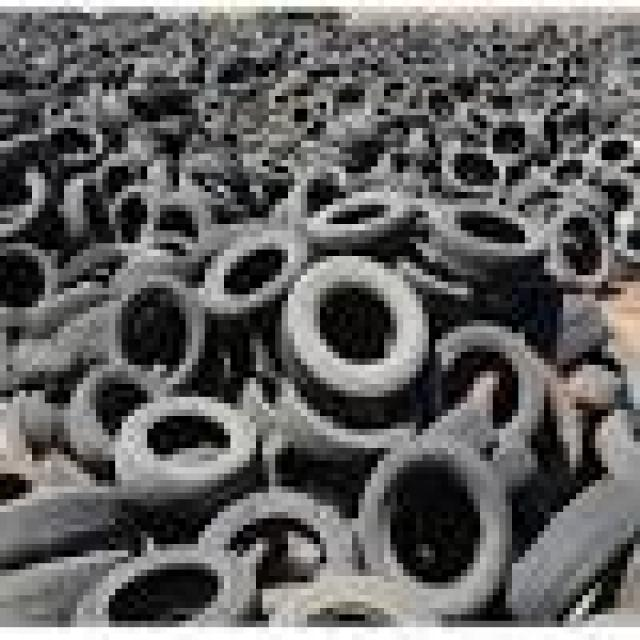Rubber -Non-Biodegradable but Recyclable-: (0, 8, 640, 639)
